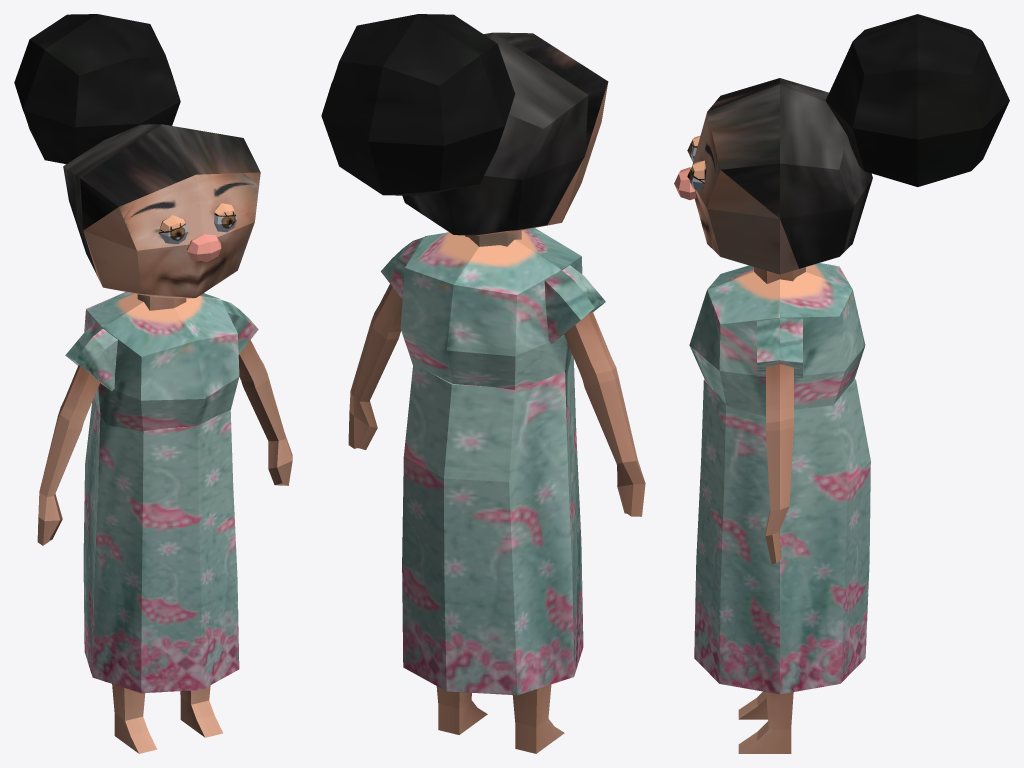
File: emak.fbx
3 renders of one model, left to right at view 1: azimuth 30°, elevation 25°; view 2: azimuth 150°, elevation 25°; view 3: azimuth 270°, elevation 25°, orthographic. The views are drawn at different scales.
Parts seen in each view (by area): view 1: Cube.010, Cube, Cube.008, Cube.013, Cylinder.006, Cube.009, Cube.011, Cylinder.004; view 2: Cube.010, Cube.008, Cube, Cube.013, Cylinder.006, Cylinder.004; view 3: Cube.010, Cube, Cube.008, Cube.013, Cylinder.006, Cube.009.
Boxes of the visible parts, x1,y1,x2,y2 form: Cube.010: (65, 292, 258, 693); Cube: (63, 124, 260, 298); Cube.008: (14, 14, 180, 163); Cube.013: (37, 340, 292, 545); Cylinder.006: (112, 684, 223, 753); Cube.009: (158, 203, 237, 244); Cube.011: (186, 234, 221, 261); Cylinder.004: (137, 294, 186, 310); Cube.010: (381, 228, 605, 695); Cube.008: (321, 14, 514, 195); Cube: (402, 32, 608, 235); Cube.013: (348, 284, 645, 516); Cylinder.006: (436, 684, 564, 753); Cylinder.004: (465, 230, 521, 246); Cube.010: (689, 263, 870, 694); Cube: (692, 78, 872, 274); Cube.008: (825, 14, 1009, 186); Cube.013: (765, 364, 793, 564); Cylinder.006: (738, 691, 793, 753); Cube.009: (687, 136, 706, 190).
Size of the model in its own units: 590 by 1482 by 631.
1 material, 1 textured.
